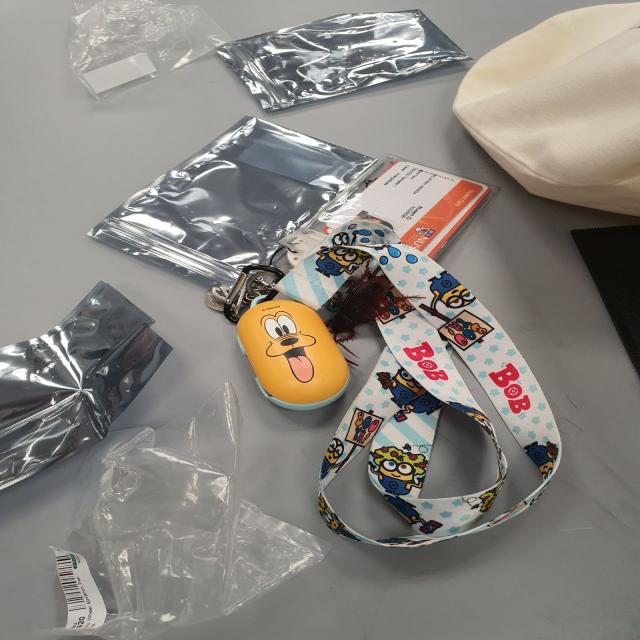Cockroach: (318, 256, 428, 338)
